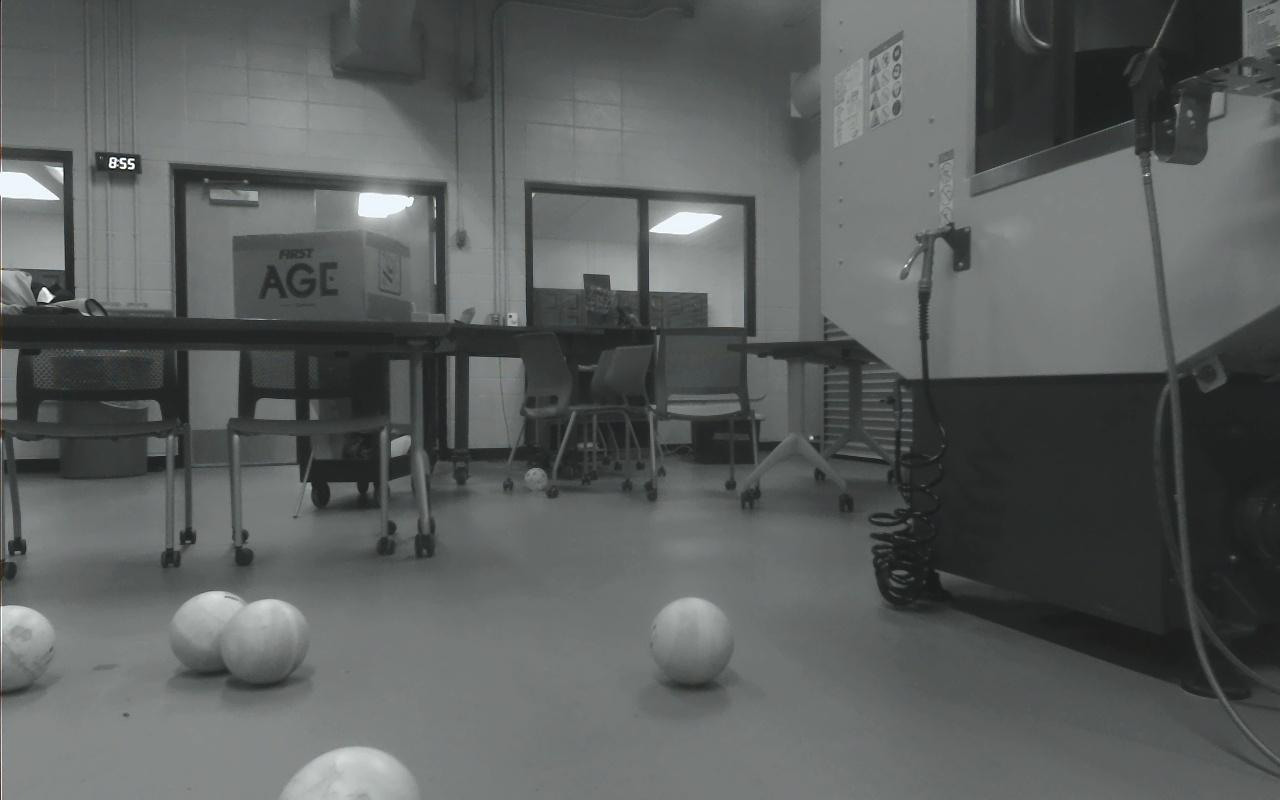Fuel: (220, 599, 308, 685), (649, 597, 735, 685), (279, 747, 421, 800), (169, 591, 251, 674), (1, 606, 56, 692)
